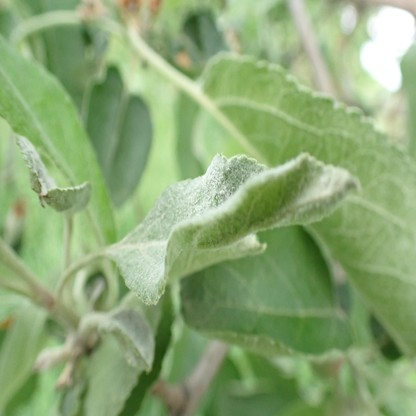powdery_mildew: (109, 151, 361, 305), (17, 131, 92, 216), (108, 311, 152, 367)
